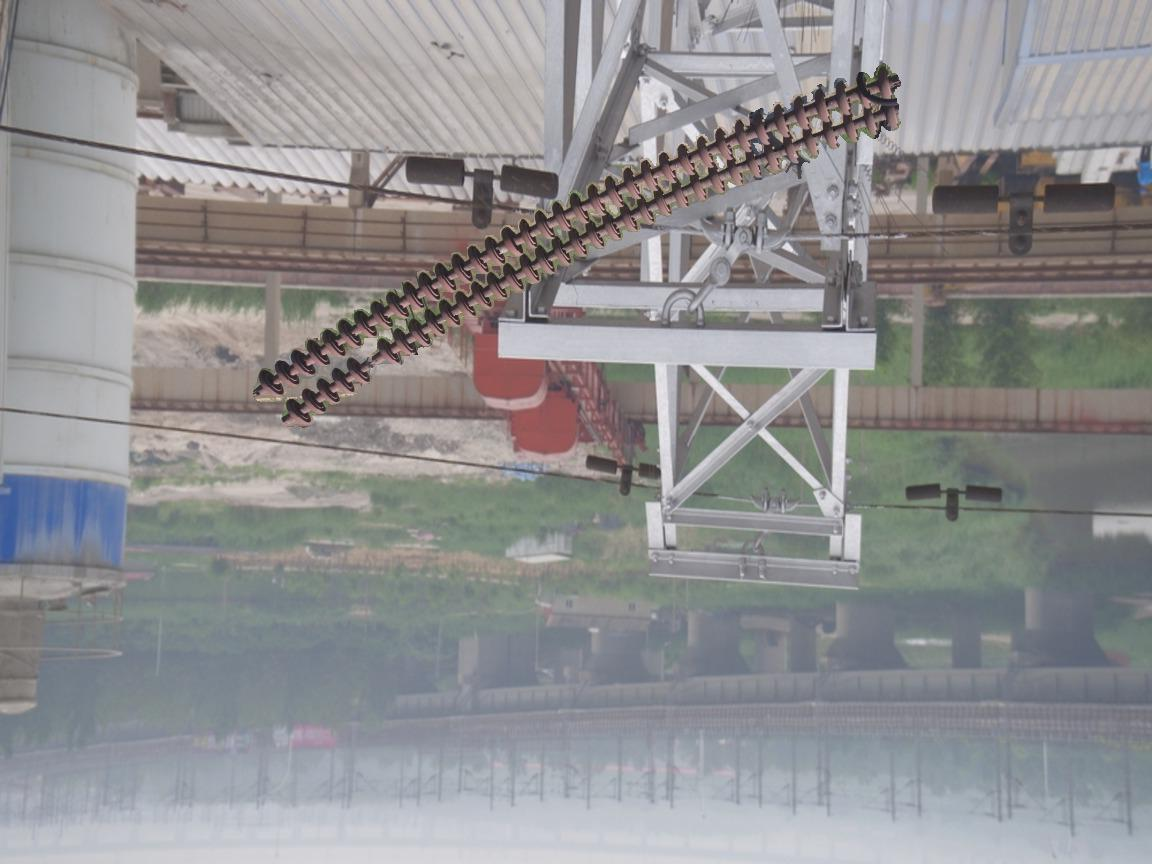insulator: (251, 60, 908, 432)
insulator_stringdrop: (344, 336, 405, 388)
